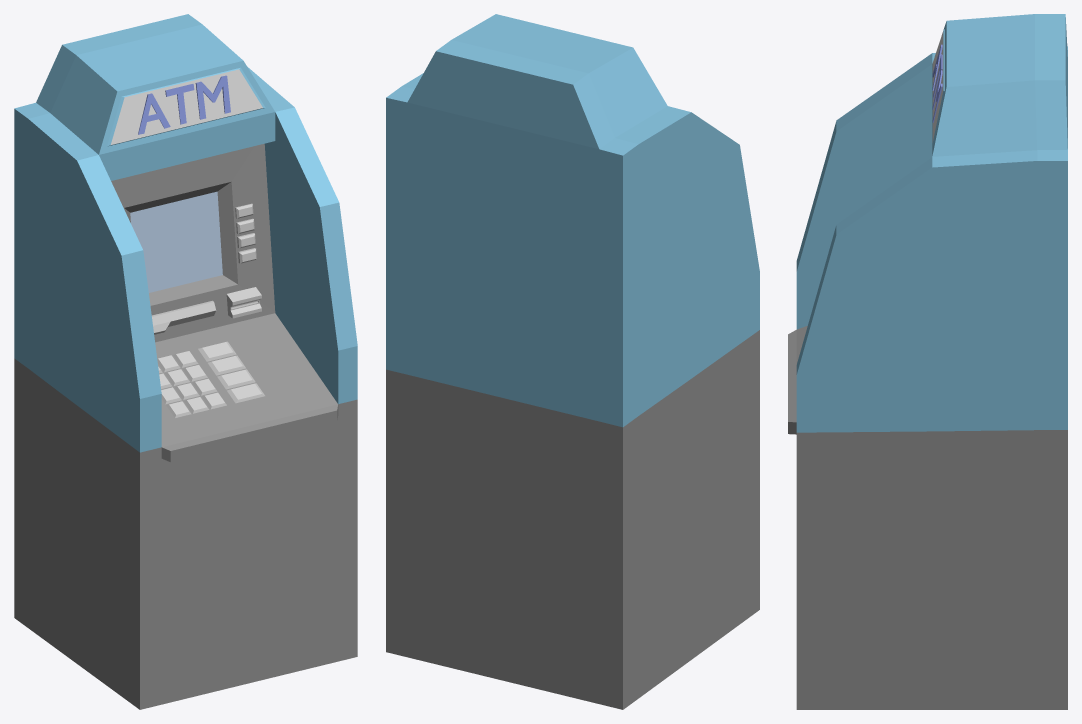
The model's file is ATM.glb.
3 renders of one model, left to right at view 1: azimuth 30°, elevation 25°; view 2: azimuth 150°, elevation 25°; view 3: azimuth 270°, elevation 25°, orthographic. The views are drawn at different scales.
Parts seen in each view (by area): view 1: ATM; view 2: ATM; view 3: ATM.
Boxes of the visible parts, x1,y1,x2,y2 form: ATM: (14,14,357,709); ATM: (386,14,759,709); ATM: (788,14,1067,709).
Size of the model in its own units: 0.2217 by 0.5469 by 0.2288.
